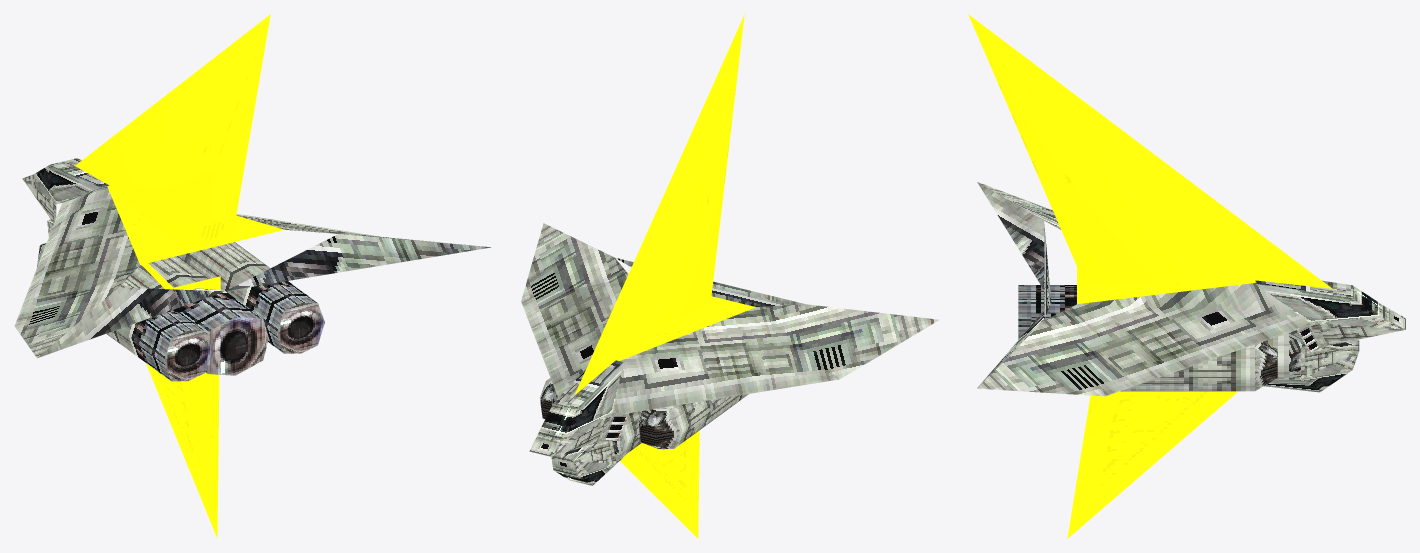
The model's file is teshuttle_3db.gltf.
The picture shows the model from 3 angles, left to right: view 1: azimuth 30°, elevation 25°; view 2: azimuth 150°, elevation 25°; view 3: azimuth 270°, elevation 25°; orthographic projection. The views are drawn at different scales.
Parts seen in each view (by area): view 1: teshuttle.3db; view 2: teshuttle.3db; view 3: teshuttle.3db.
Boxes of the visible parts, x1=… form: teshuttle.3db: x1=14, y1=14, x2=491, y2=537; teshuttle.3db: x1=521, y1=14, x2=939, y2=538; teshuttle.3db: x1=968, y1=14, x2=1405, y2=538.
Bounding box in the file's own units: 6.48 × 7.67 × 5.8.
6 materials, 6 textured.
